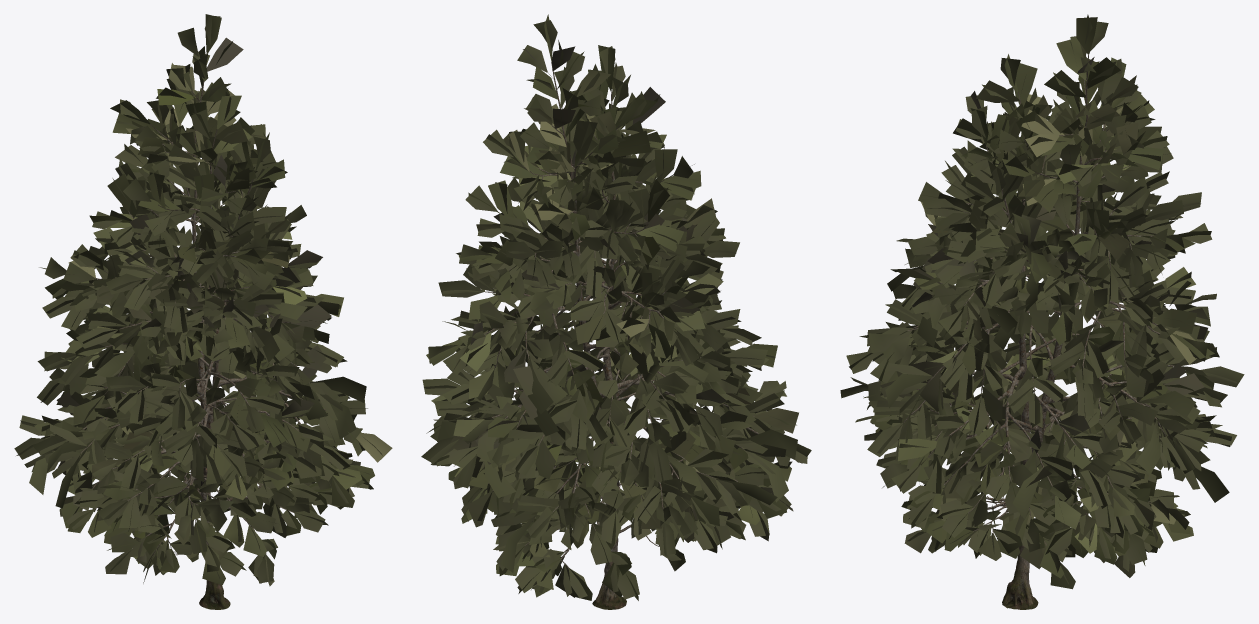
File: SM_BlackAlder_Field_04_PP_LOD2.gltf
3 renders of one model, left to right at view 1: azimuth 30°, elevation 25°; view 2: azimuth 150°, elevation 25°; view 3: azimuth 270°, elevation 25°, orthographic. The views are drawn at different scales.
Parts seen in each view (by area): view 1: SM_BlackAlder_Field_04_PP; view 2: SM_BlackAlder_Field_04_PP; view 3: SM_BlackAlder_Field_04_PP.
Part boxes in pixels (x1,y1,x2,y2): SM_BlackAlder_Field_04_PP: (14, 14, 392, 609); SM_BlackAlder_Field_04_PP: (421, 14, 811, 609); SM_BlackAlder_Field_04_PP: (840, 14, 1244, 609).
Size of the model in its own units: 6.83 by 11.49 by 6.98.
4 materials, 4 textured.
